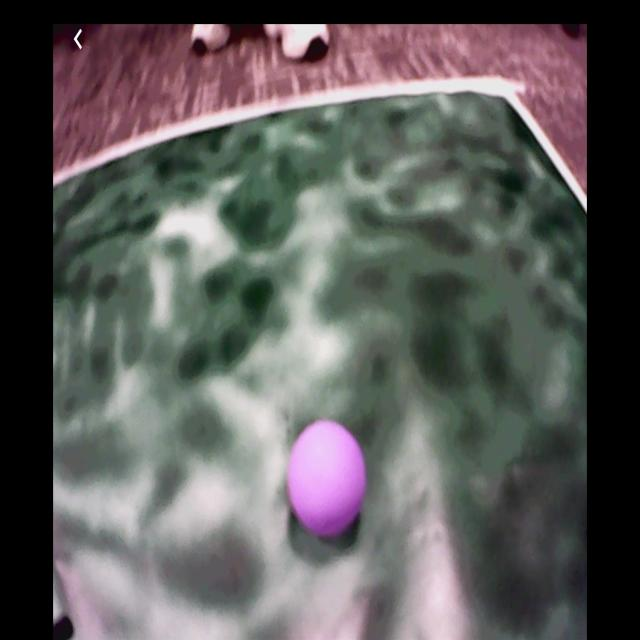ball: (289, 422, 367, 535)
